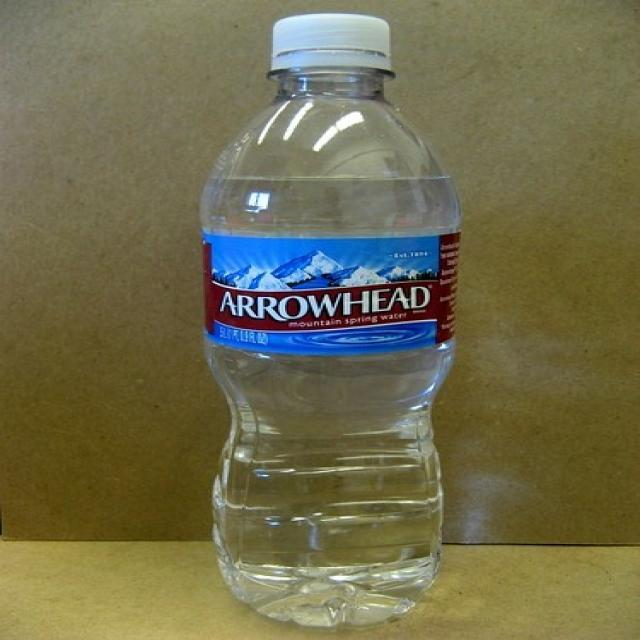plastic_bottle: (199, 14, 461, 625)
